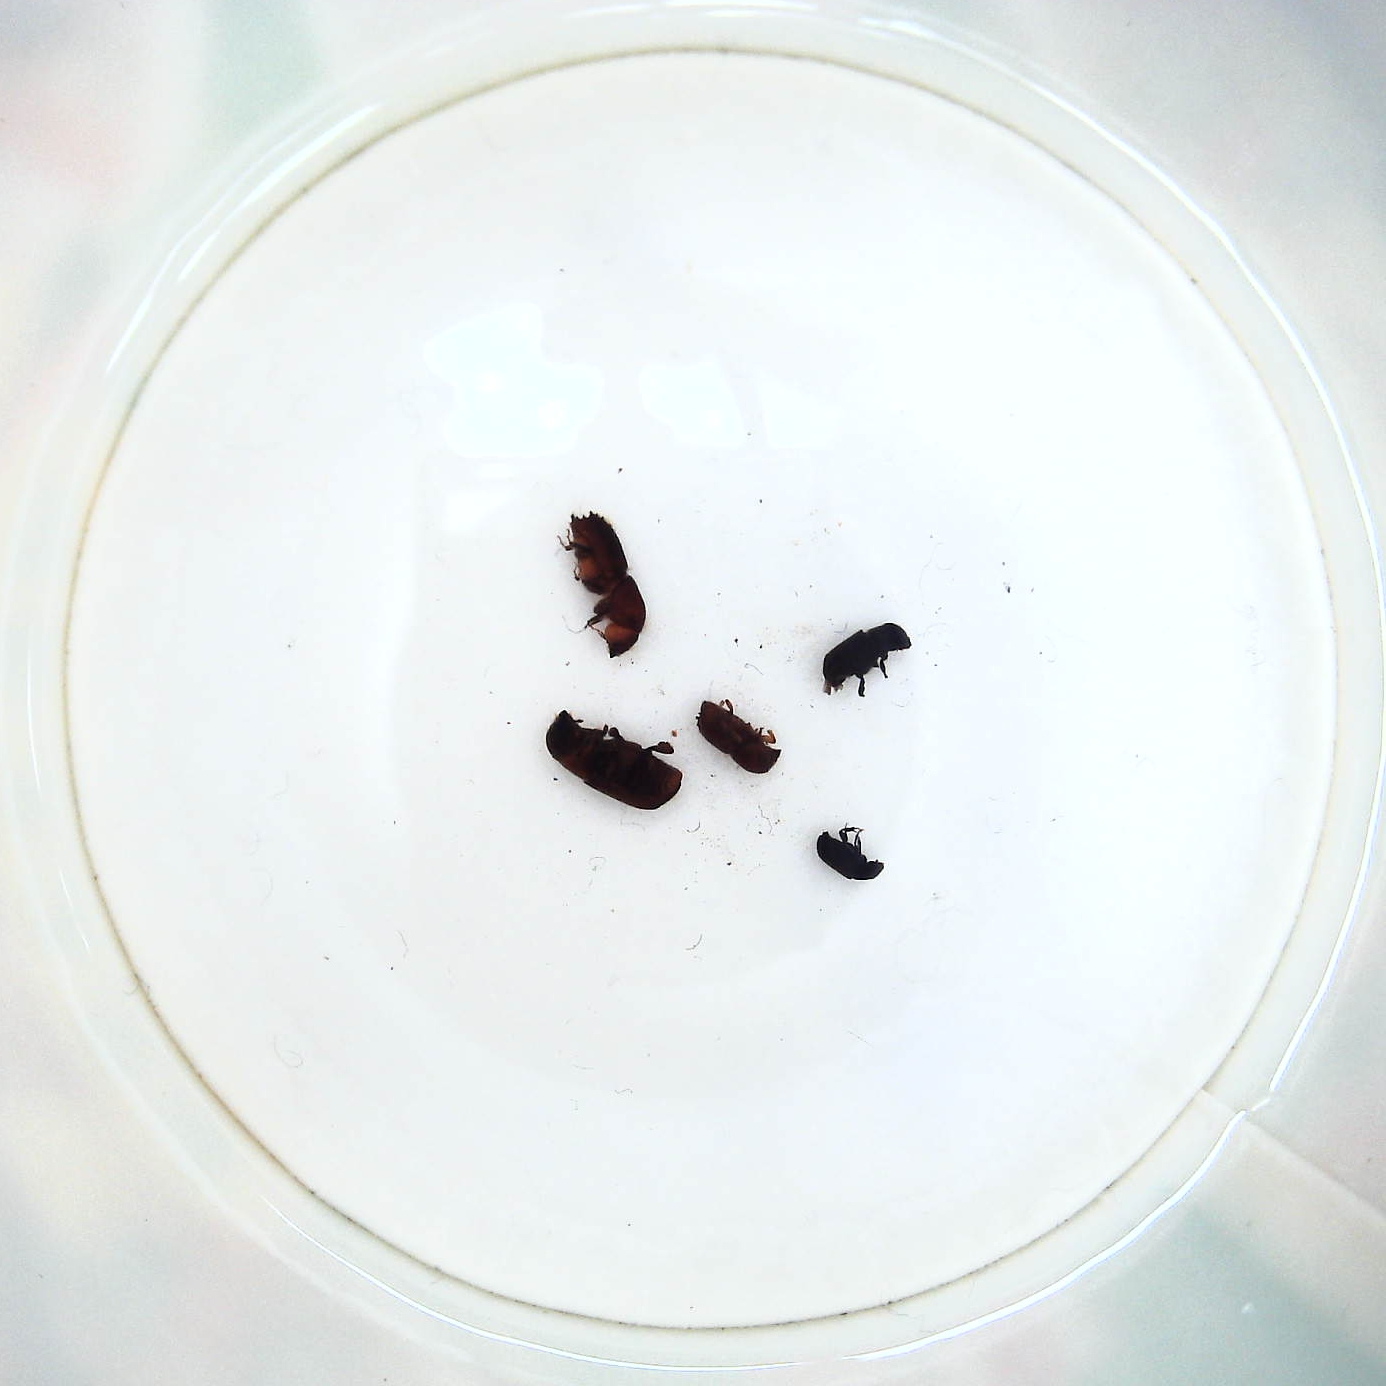Boerner: (550, 503, 652, 664)
Leconte: (544, 708, 687, 816)
armandi: (821, 616, 916, 706)
coleoptera: (808, 820, 882, 886)
linnaeus: (689, 694, 784, 779)
